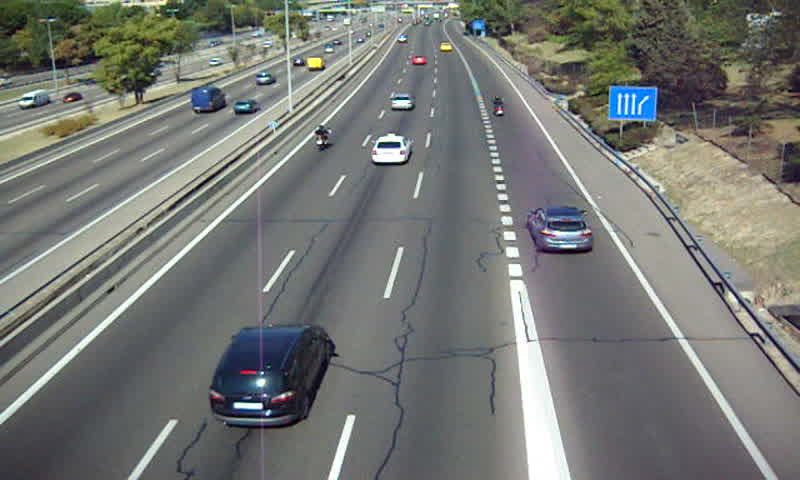car: (210, 325, 327, 426), (530, 208, 595, 252), (371, 135, 409, 164), (389, 93, 413, 111), (411, 54, 429, 67)
motorcycle: (313, 123, 332, 153), (492, 97, 505, 117)
